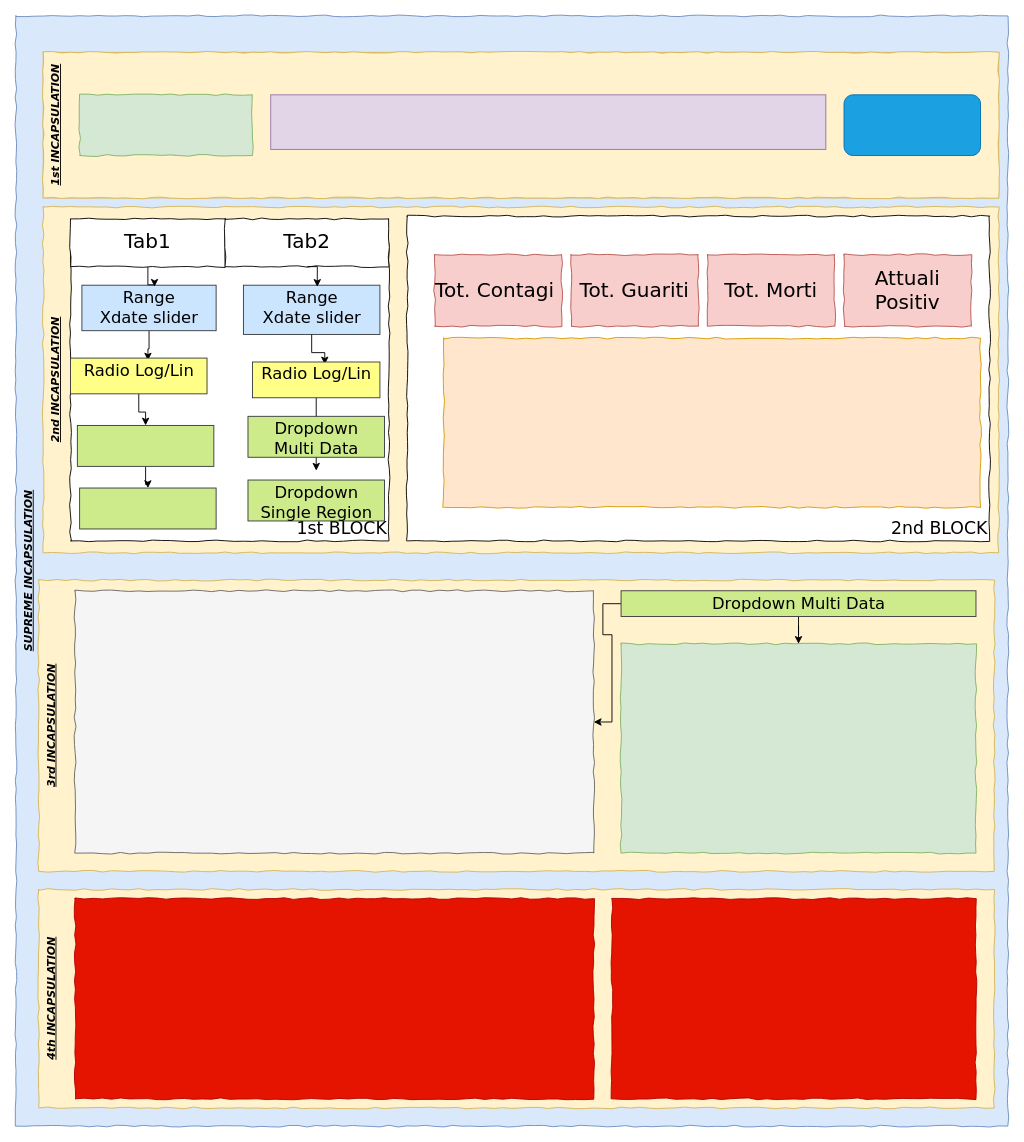
This 1024x1142 diagram has some shape labels left out. Here are the shapes that lost their labels. From the top down, the centre of each, then its label:
At [166,125]: "Logo".
At [548,121]: "Heading".
At [912,125]: "Button".
At [712,422]: "Graph under the Cards".
At [145,445]: "Dropdown Multi Region".
At [147,508]: "Dropdown Single Data".
At [334,721]: "Cloropleth Map".
At [798,748]: "Bar graph".
At [334,998]: "pie graph".
At [793,998]: "aggregate graph".
